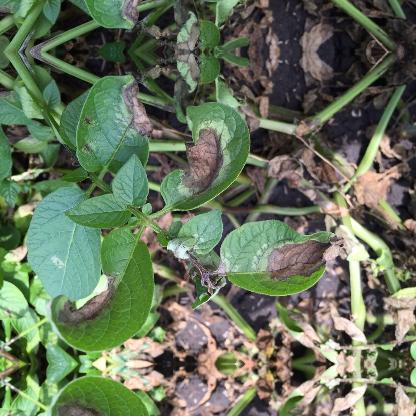Late-Blight: (242, 68, 414, 234), (52, 226, 146, 348), (158, 93, 252, 211), (80, 76, 152, 184), (242, 0, 413, 36), (256, 226, 330, 304), (52, 379, 146, 416), (79, 0, 152, 27)
